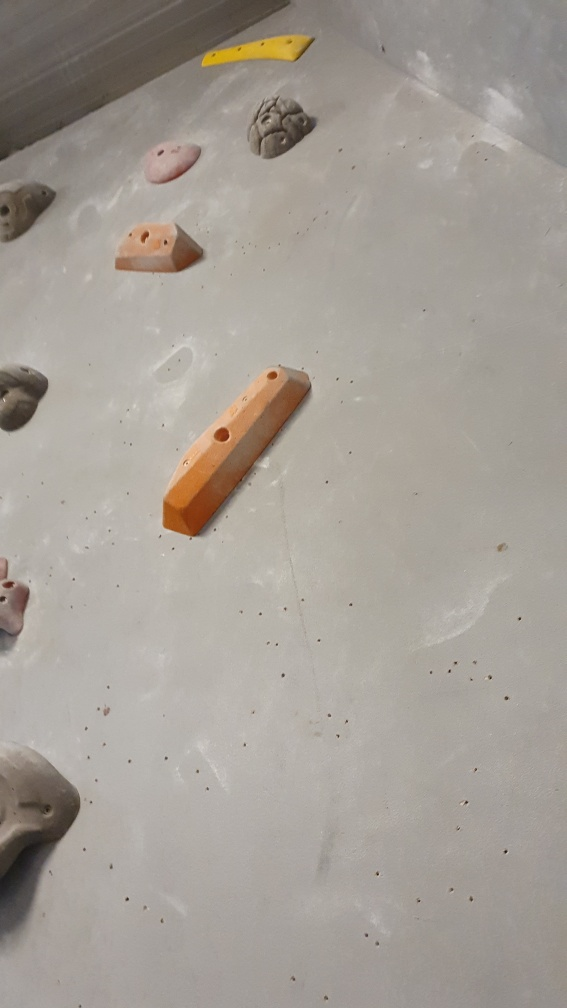Crimp: (200, 40, 318, 68)
Jug: (245, 92, 319, 162), (1, 172, 58, 249), (1, 363, 54, 430)
Pinch: (157, 360, 314, 542), (111, 219, 210, 275)
